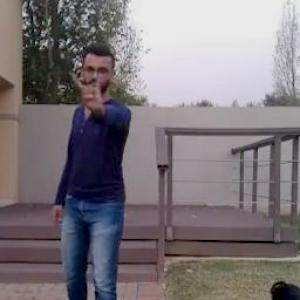takeoff-hand: (66, 60, 108, 113)
